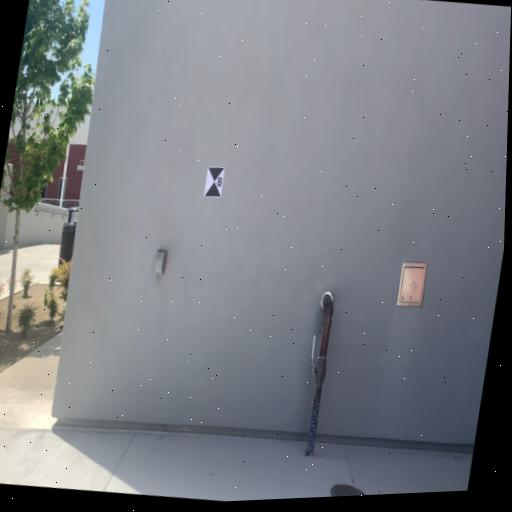target8: (202, 165, 227, 201)
